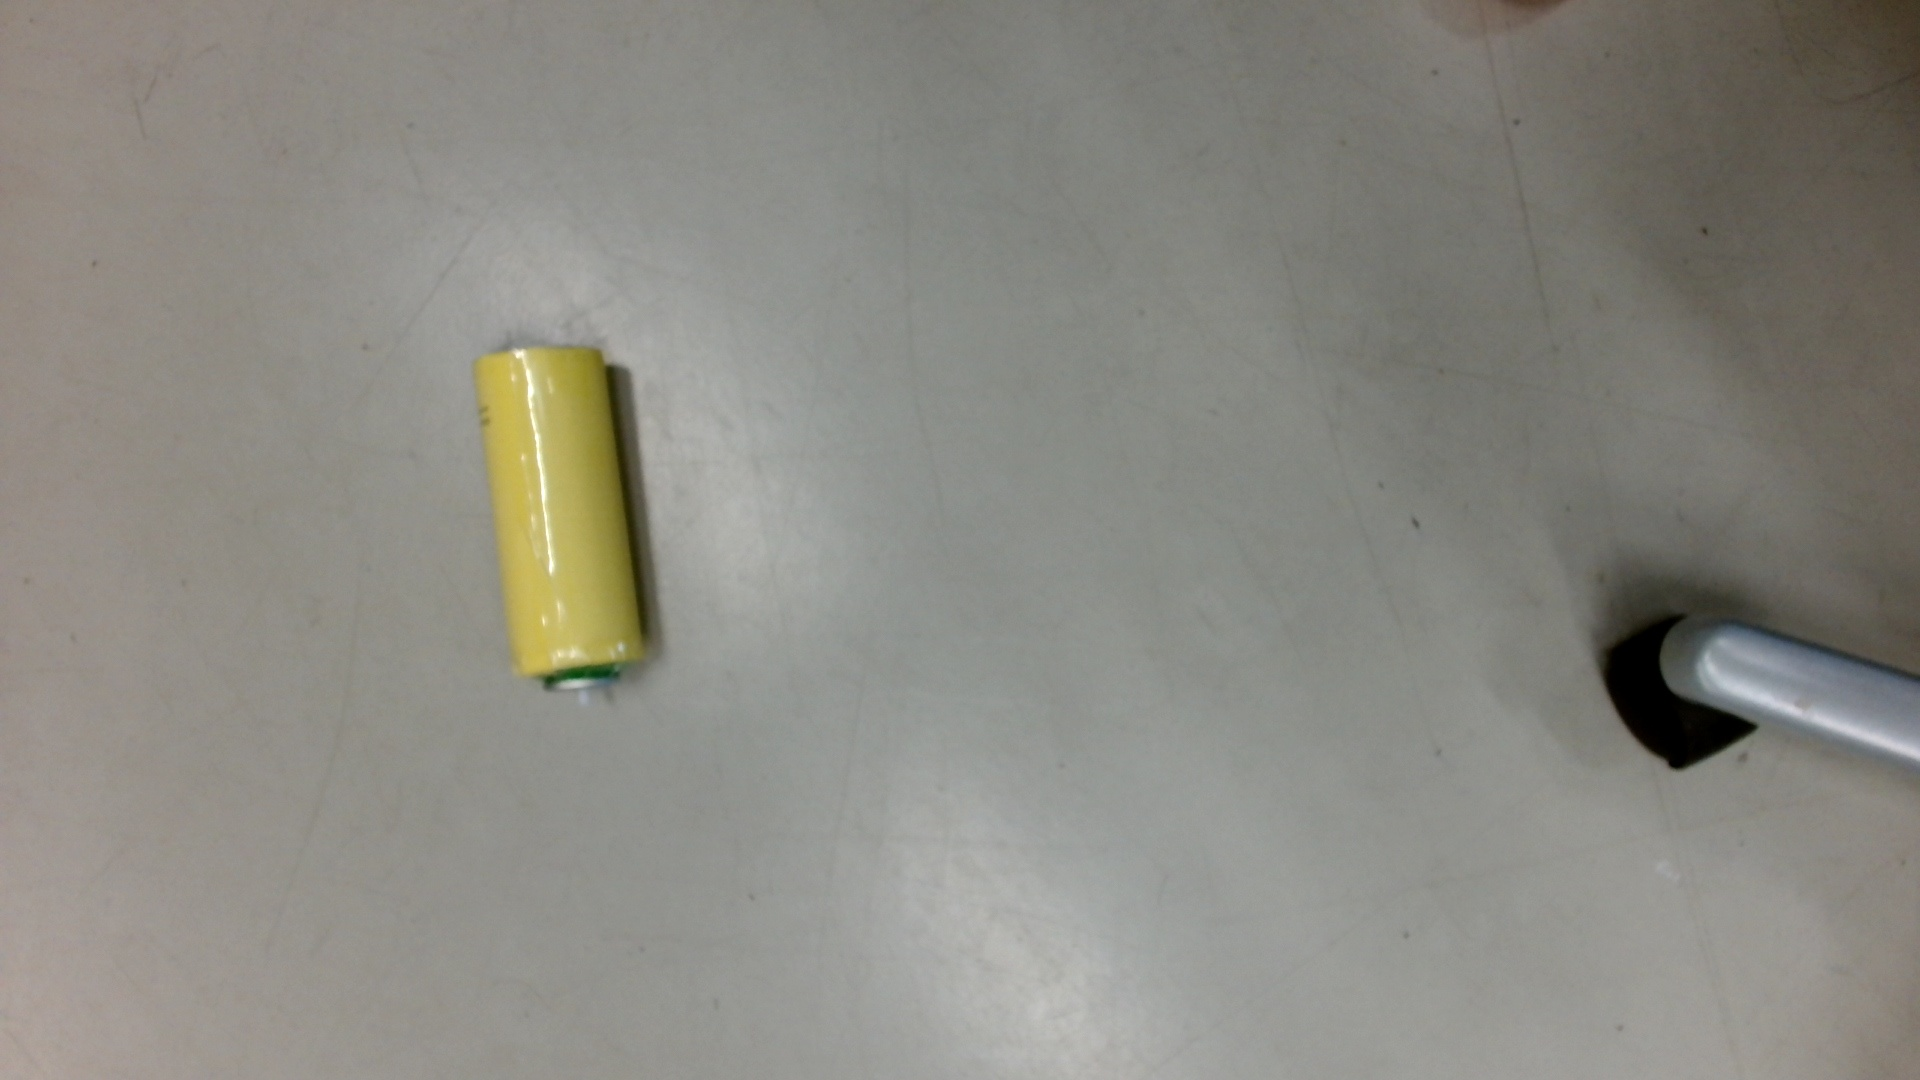Cylinder: (468, 336, 663, 724)
